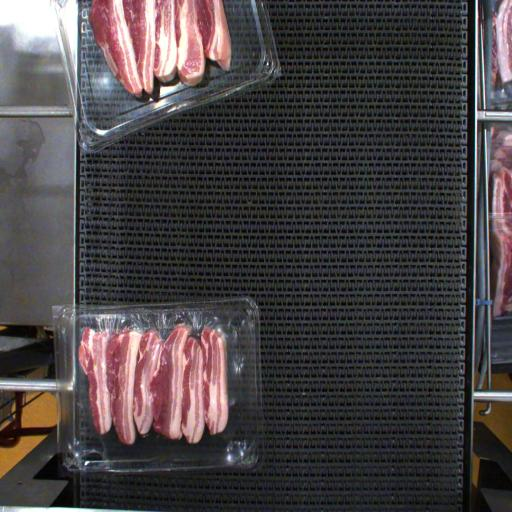unsealed: (63, 310, 252, 402)
